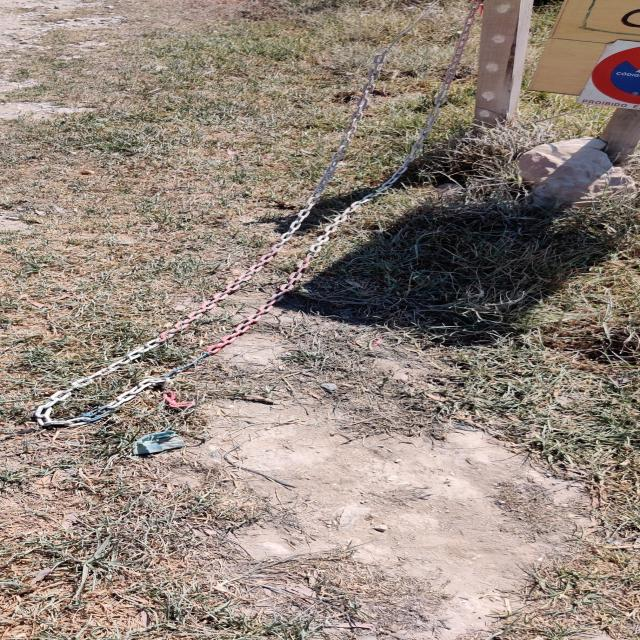litter: (133, 430, 185, 454)
